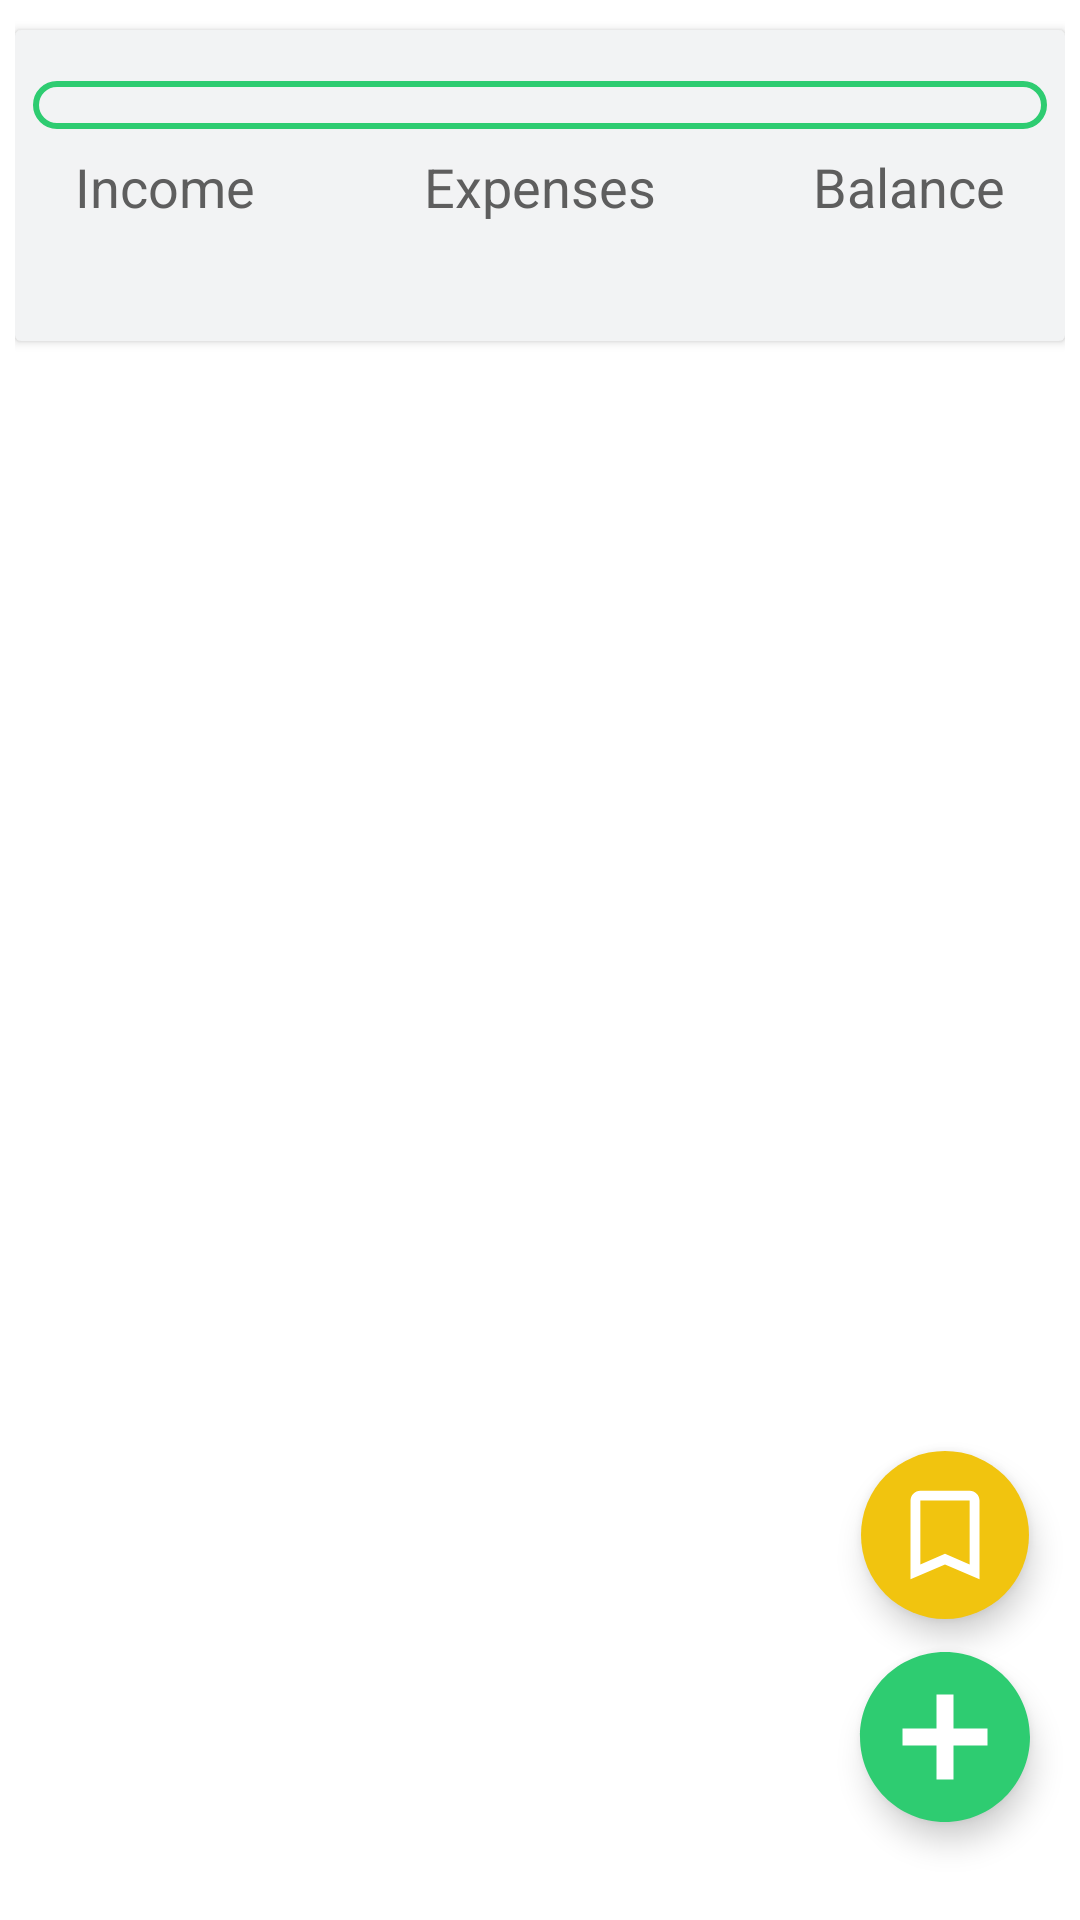

Named icons in this screenshot (1080x1920) and their centers, point (x, y):
add info: point (945, 1745)
bookmark two: point (946, 1542)
